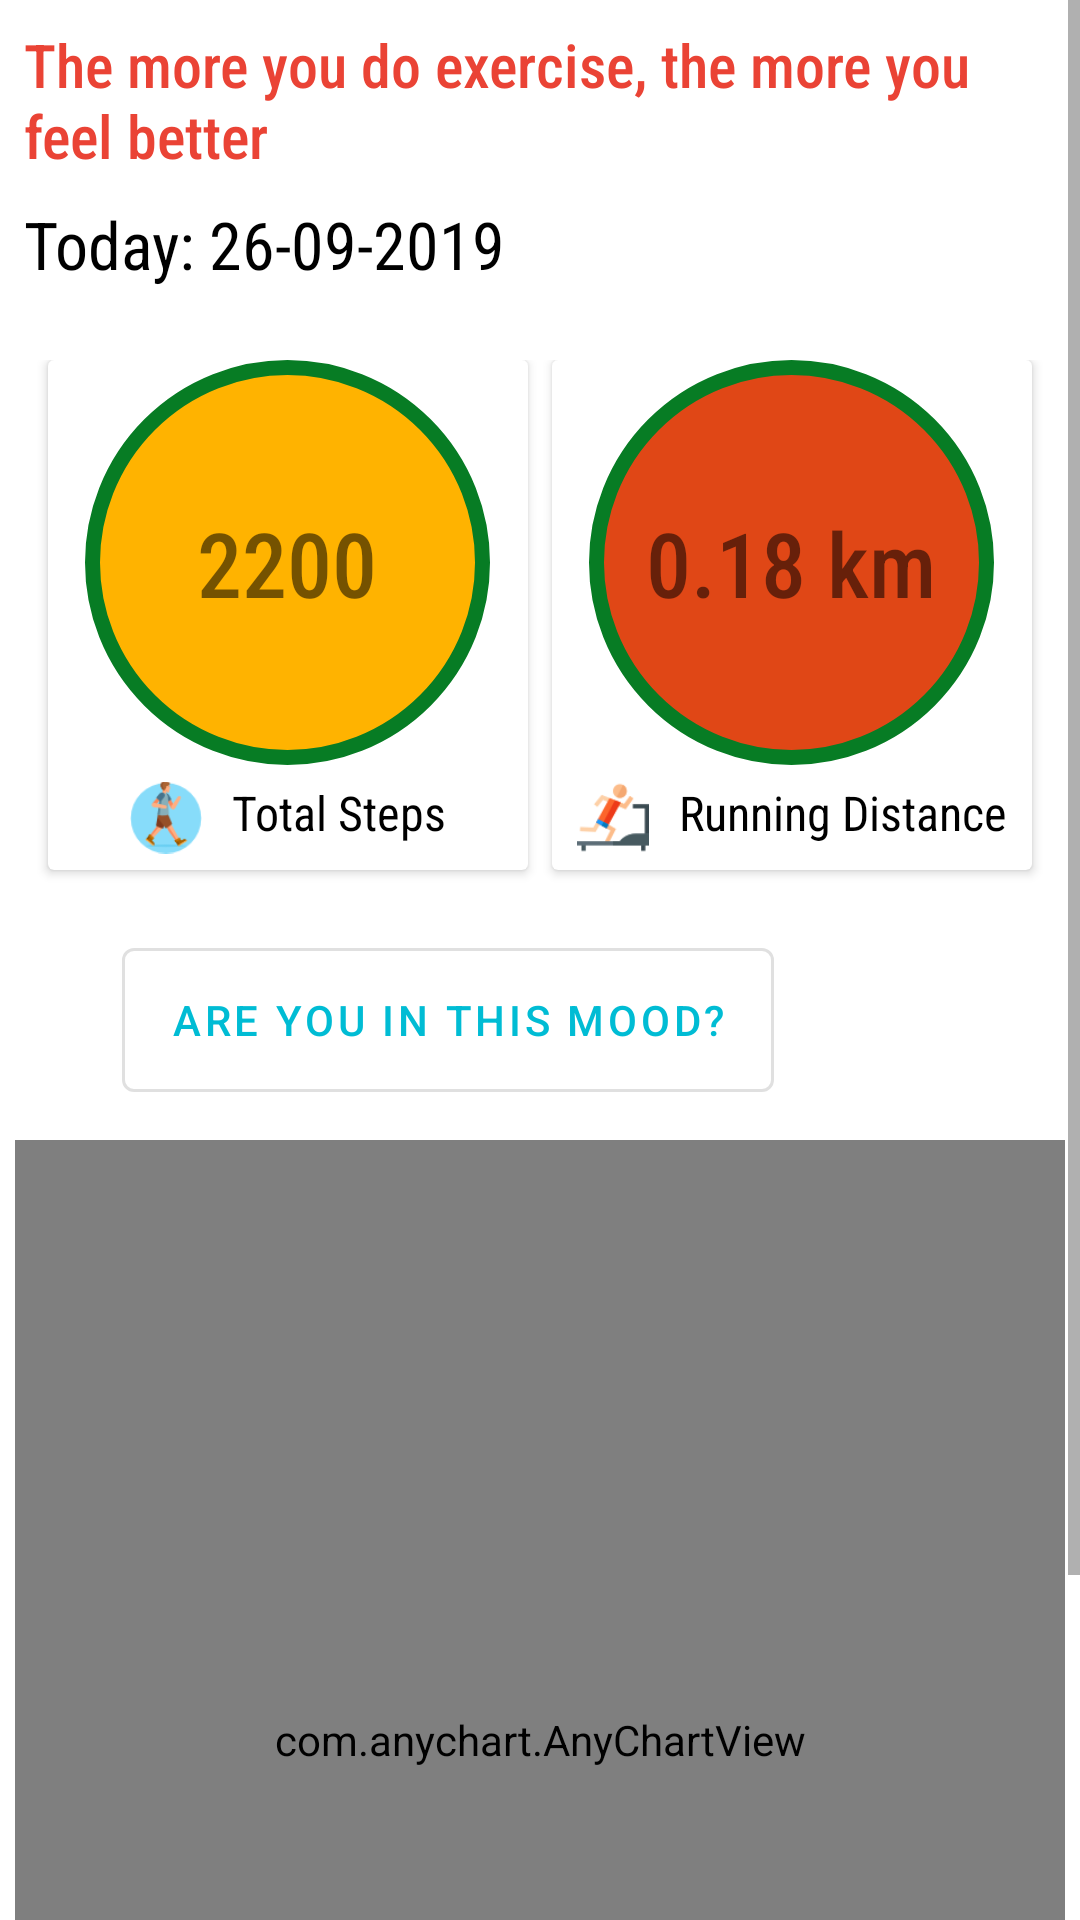

Named icons in this screenshot (1080px×1920px) and their bounding boxes, (x1, y1, x2, y2):
walking: (130, 782, 202, 854)
